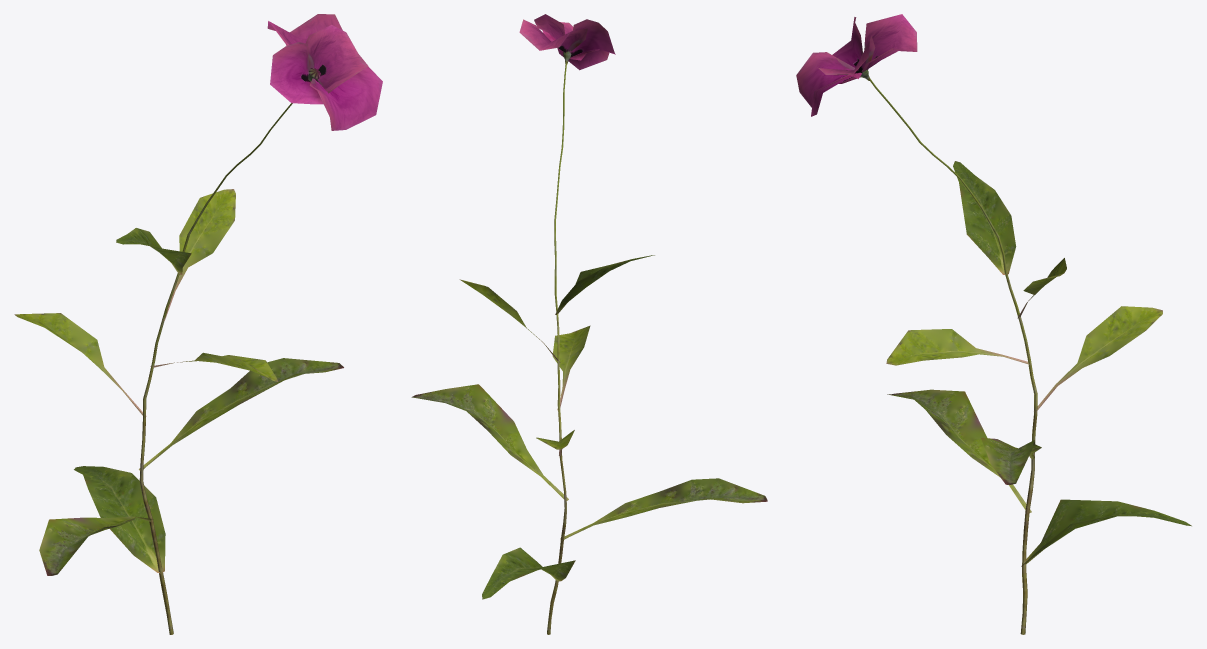
The model's file is Poppy_OG_normal_pink.glb.
3 renders of one model, left to right at view 1: azimuth 30°, elevation 25°; view 2: azimuth 150°, elevation 25°; view 3: azimuth 270°, elevation 25°, orthographic. The views are drawn at different scales.
Visible parts, largest first — view 1: xtall; view 2: xtall; view 3: xtall.
Boxes of the visible parts, x1=… form: xtall: x1=14, y1=14, x2=382, y2=634; xtall: x1=411, y1=14, x2=767, y2=634; xtall: x1=796, y1=14, x2=1191, y2=634.
Size of the model in its own units: 1.75 by 3.06 by 1.73.
Materials: 1 (1 with a texture image).
